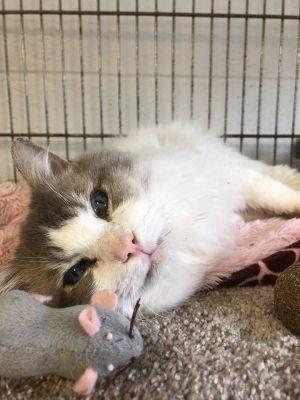ragdoll: (1, 129, 180, 331)
